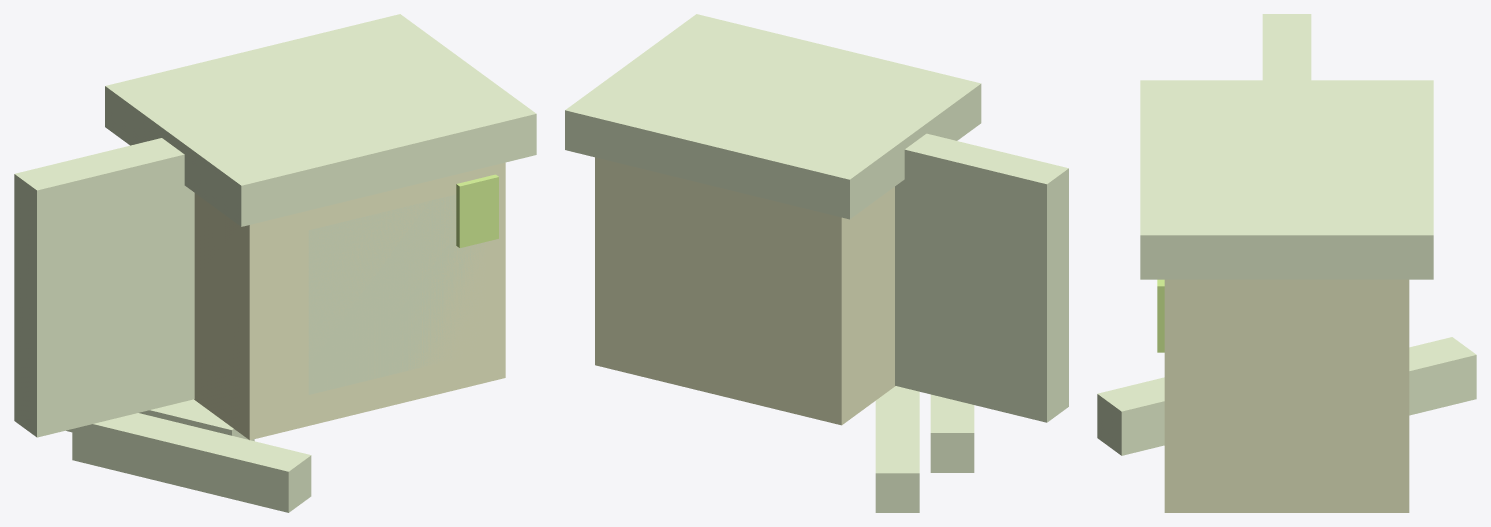
Rendered from furniture_signal_cantilever_splice_box.glb.
3 views of the same model, side by side, from view 1: azimuth 30°, elevation 25°; view 2: azimuth 150°, elevation 25°; view 3: azimuth 270°, elevation 25° (orthographic). The views are drawn at different scales.
Visible parts, largest first — view 1: lid_cap, splice_body, mount_plate, door_face, conduit_stub_left, status_lens, conduit_stub_right; view 2: splice_body, lid_cap, mount_plate, conduit_stub_right, conduit_stub_left; view 3: lid_cap, splice_body, conduit_stub_left, conduit_stub_right, mount_plate, status_lens.
Part boxes in pixels (x1=…): lid_cap: x1=105, y1=14, x2=536, y2=226; splice_body: x1=194, y1=162, x2=505, y2=440; mount_plate: x1=14, y1=138, x2=194, y2=437; door_face: x1=308, y1=194, x2=485, y2=394; conduit_stub_left: x1=72, y1=413, x2=311, y2=512; status_lens: x1=456, y1=174, x2=498, y2=247; conduit_stub_right: x1=66, y1=399, x2=254, y2=441; splice_body: x1=595, y1=157, x2=895, y2=425; lid_cap: x1=565, y1=14, x2=981, y2=219; mount_plate: x1=895, y1=133, x2=1068, y2=422; conduit_stub_right: x1=875, y1=386, x2=919, y2=512; conduit_stub_left: x1=930, y1=394, x2=974, y2=472; lid_cap: x1=1140, y1=80, x2=1433, y2=279; splice_body: x1=1164, y1=279, x2=1409, y2=512; conduit_stub_left: x1=1097, y1=377, x2=1164, y2=455; conduit_stub_right: x1=1409, y1=337, x2=1476, y2=415; mount_plate: x1=1262, y1=14, x2=1311, y2=80; status_lens: x1=1157, y1=279, x2=1164, y2=352.
Bounding box in the file's own units: 0.45 × 0.31 × 0.3105.
